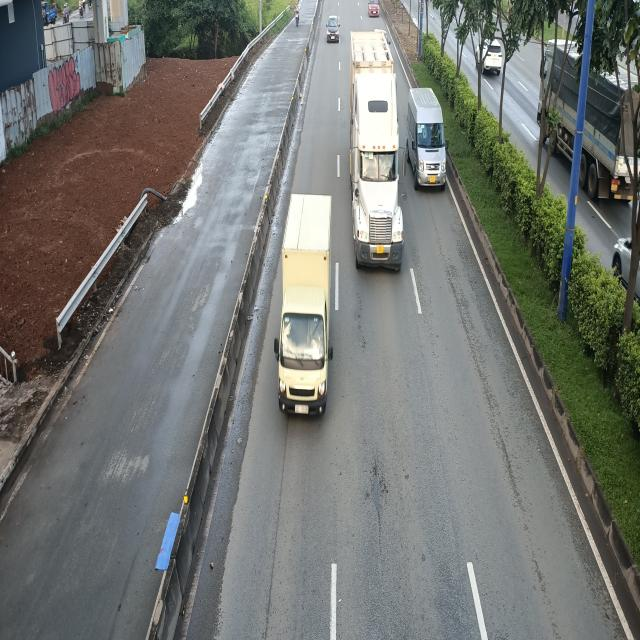container: (349, 30, 404, 268)
truck: (271, 190, 337, 416)
van: (407, 88, 449, 192)
